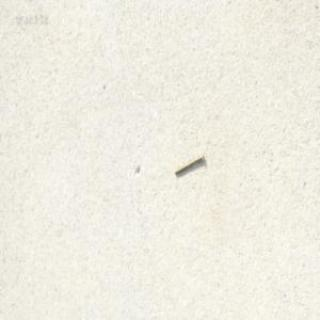Bolttrack_idkeyframe: (172, 151, 202, 175)
